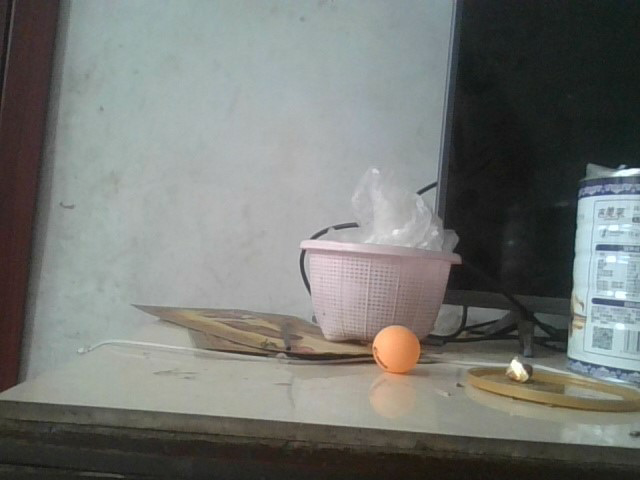ball: (375, 326, 423, 376)
